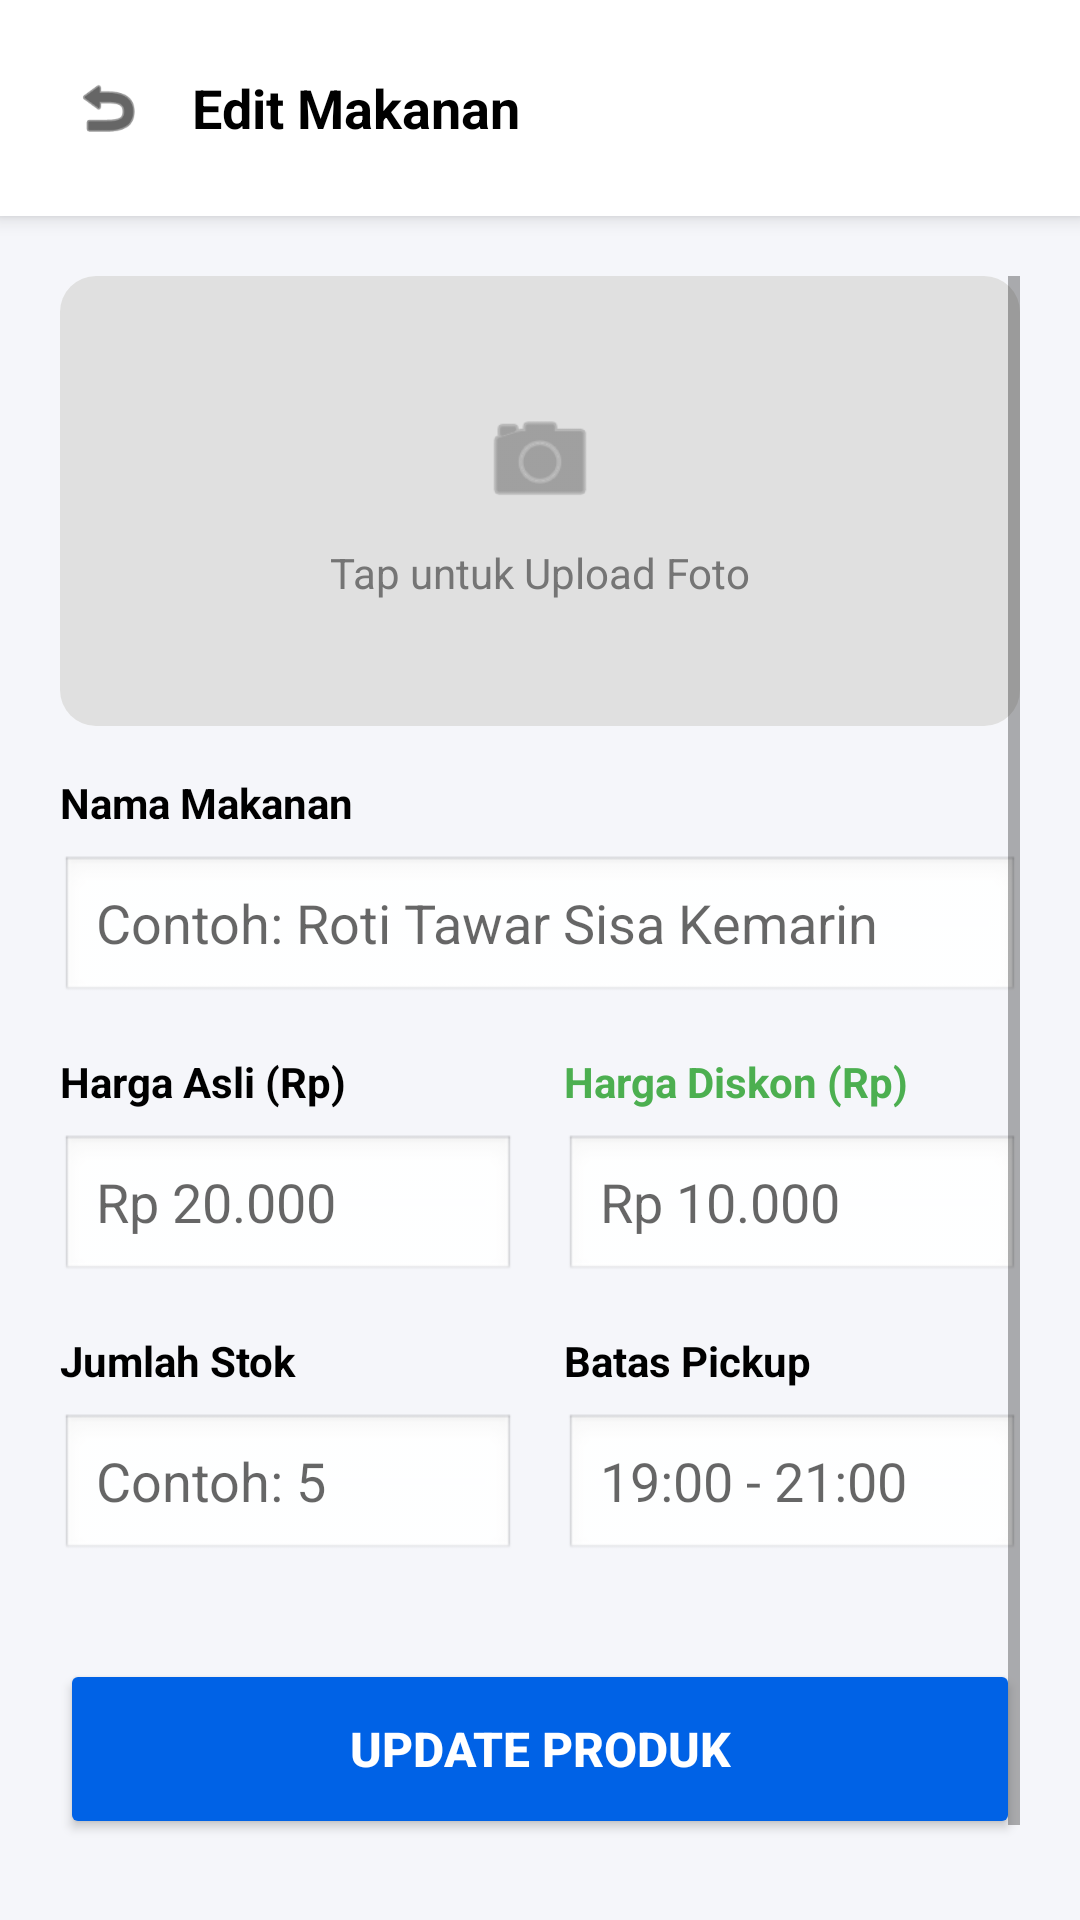

Icons on this 1080×1920 Android screen, each with the point to tap as (x=x, y=y):
camera: (x=540, y=458)
revert: (x=109, y=108)
